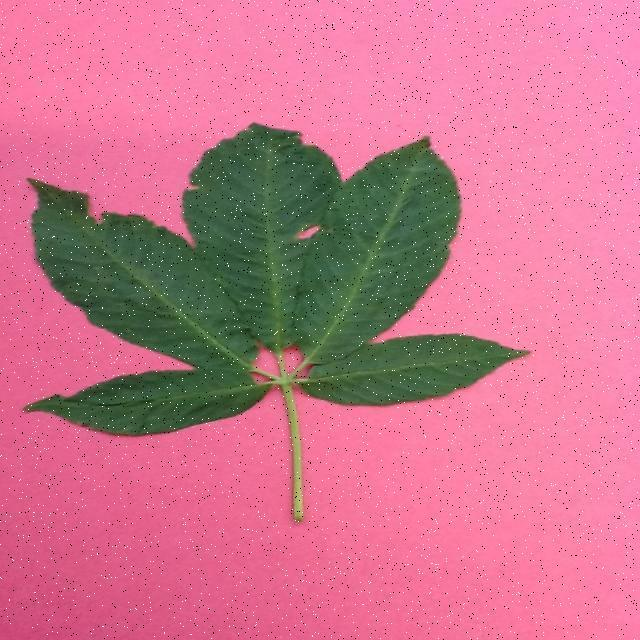foliage: (29, 173, 294, 387), (278, 130, 469, 388), (176, 124, 340, 354), (289, 318, 535, 410), (18, 370, 280, 442)
